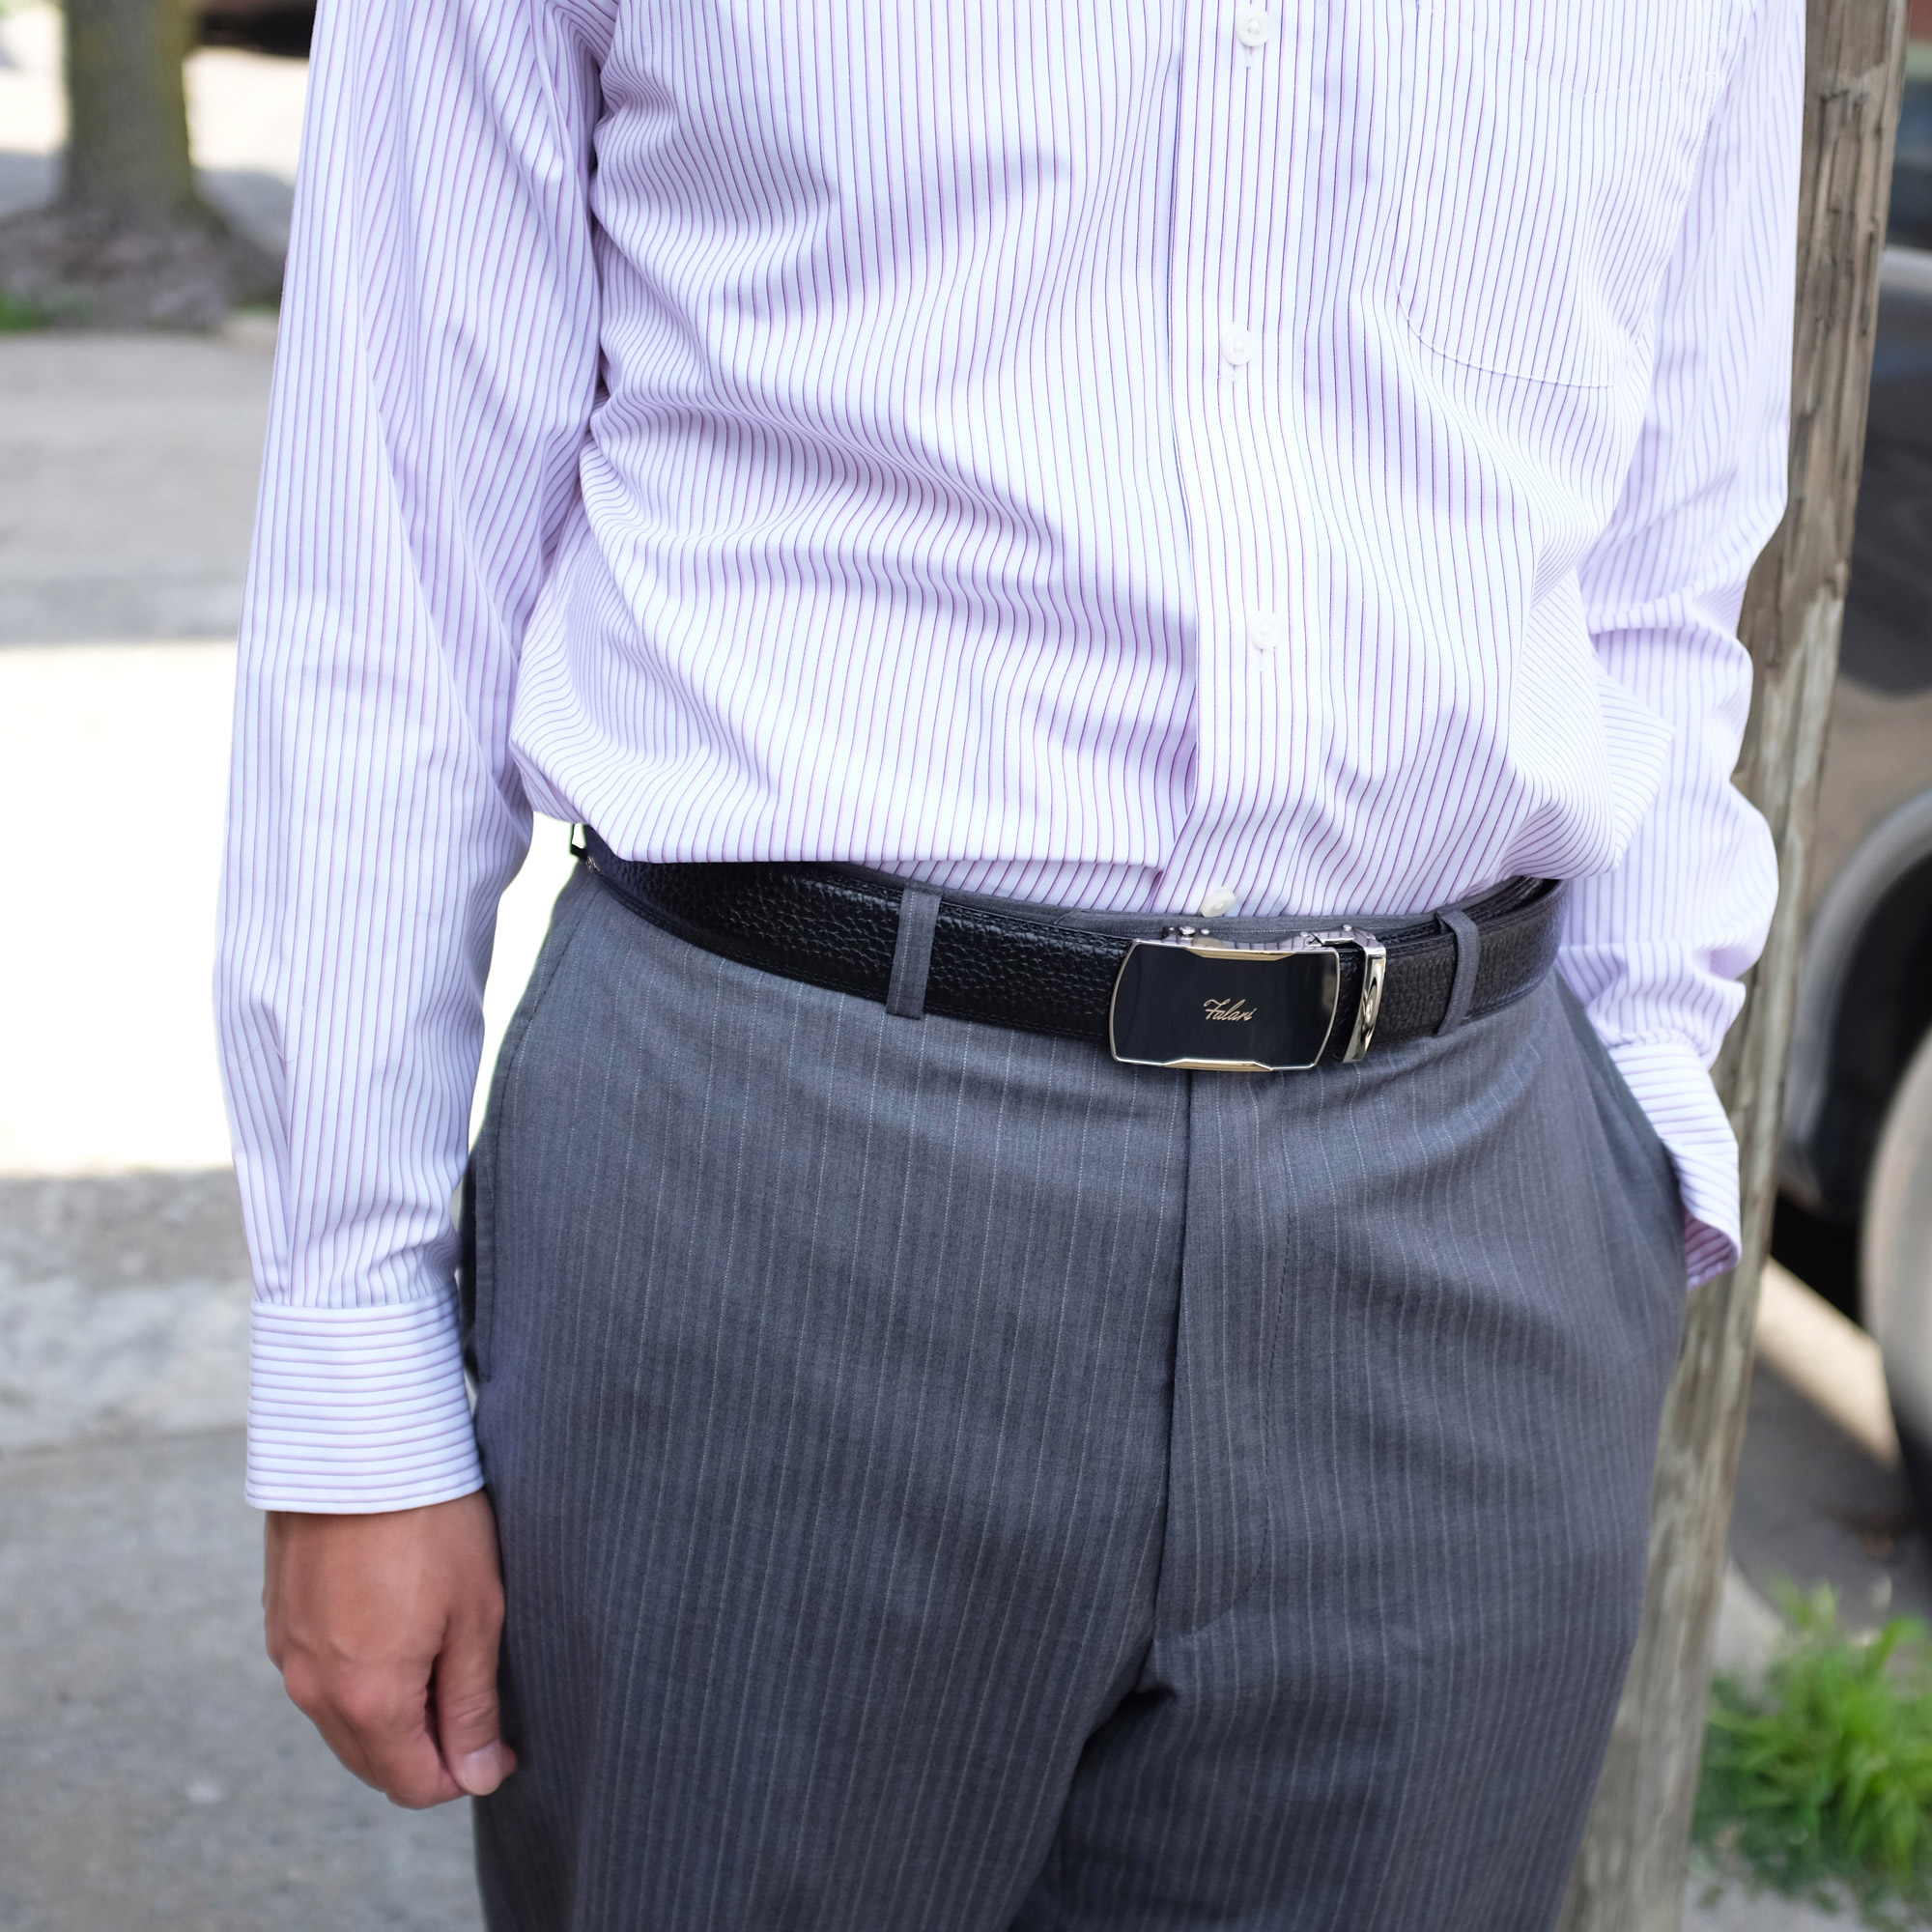F_belt: (518, 793, 1640, 1072)
F_shirt: (156, 2, 1829, 1499)
